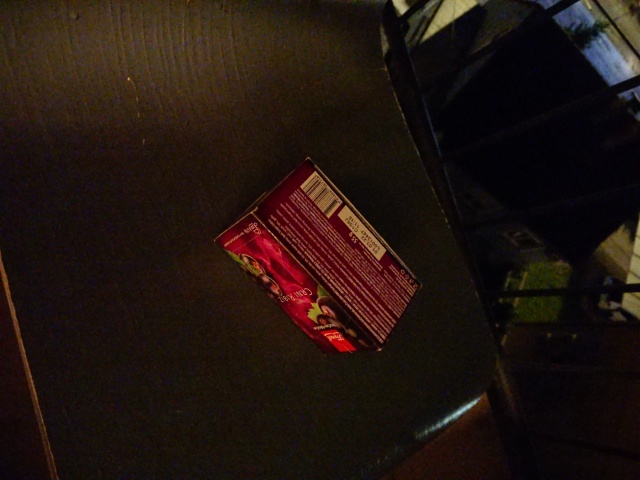Franck Black Currant Tea 60g: (211, 154, 427, 358)
